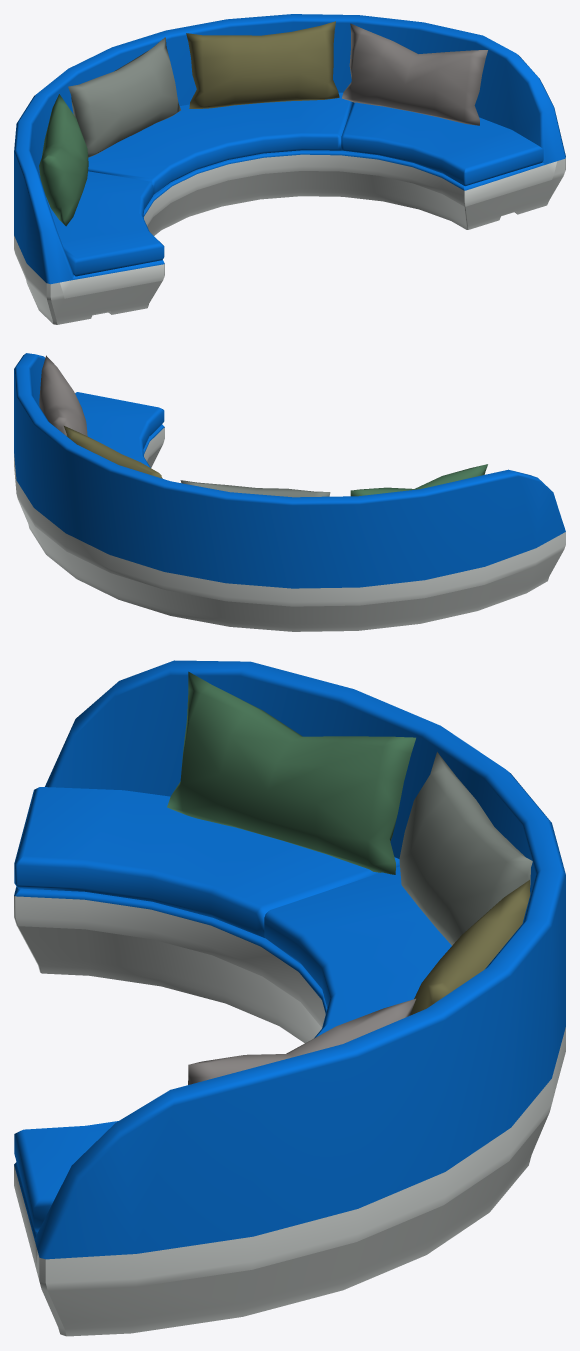
3 views of the same model, one above another, from view 1: azimuth 30°, elevation 25°; view 2: azimuth 150°, elevation 25°; view 3: azimuth 270°, elevation 25° (orthographic). The views are drawn at different scales.
Parts seen in each view (by area): view 1: G:\FFXIV-MapTools\exports\x6t1\bg\ex5\01_xkt_x6\twn\x6t1\bgp (×3); view 2: G:\FFXIV-MapTools\exports\x6t1\bg\ex5\01_xkt_x6\twn\x6t1\bgp (×3); view 3: G:\FFXIV-MapTools\exports\x6t1\bg\ex5\01_xkt_x6\twn\x6t1\bgp (×3).
Part boxes in pixels (x1,y1,x2,y2): G:\FFXIV-MapTools\exports\x6t1\bg\ex5\01_xkt_x6\twn\x6t1\bgp (×3): (14,14,565,324); G:\FFXIV-MapTools\exports\x6t1\bg\ex5\01_xkt_x6\twn\x6t1\bgp (×3): (14,353,565,631); G:\FFXIV-MapTools\exports\x6t1\bg\ex5\01_xkt_x6\twn\x6t1\bgp (×3): (14,660,565,1336).
Size of the model in its own units: 4.04 by 1.01 by 2.03.
